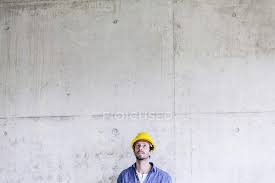casque: (108, 128, 177, 181)
